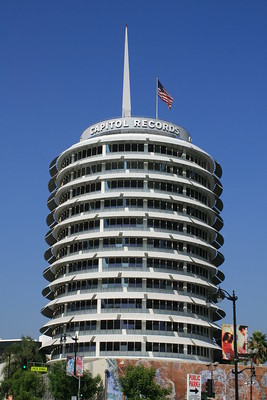medium: (36, 111, 230, 366)
